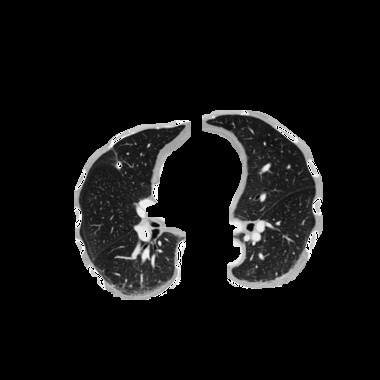PN: (114, 161, 122, 169)
